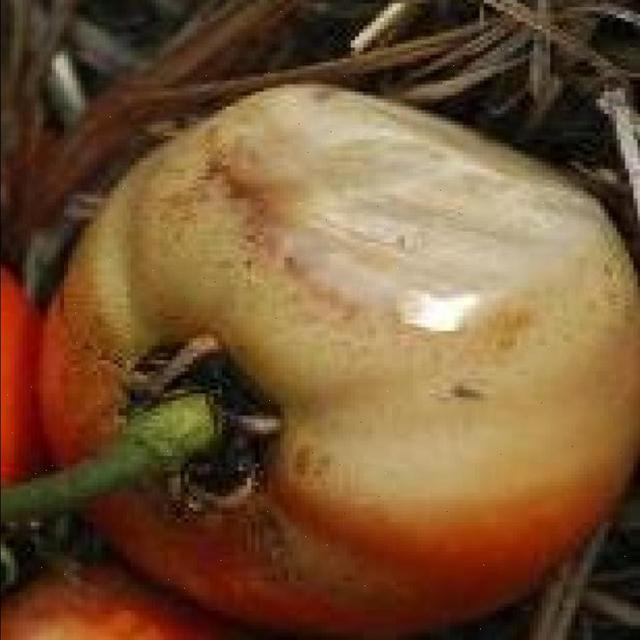Sunscald Fruit: (124, 56, 412, 223)
